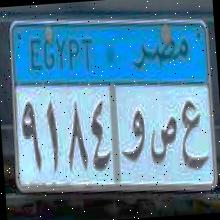1: (44, 101, 62, 170)
4: (86, 100, 111, 170)
8: (64, 101, 86, 170)
9: (20, 102, 40, 166)
ain: (178, 100, 207, 170)
saad: (148, 113, 179, 164)
waw: (118, 110, 148, 164)
